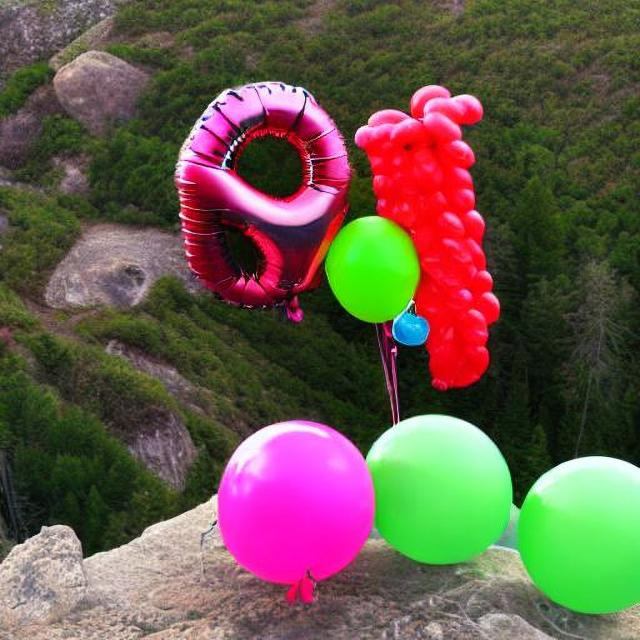balloon: (354, 74, 509, 390), (166, 78, 357, 316), (210, 418, 380, 593), (356, 414, 513, 572), (510, 457, 638, 619), (318, 211, 424, 331)
